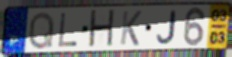6: (183, 6, 207, 48)
H: (87, 8, 117, 50)
J: (155, 9, 177, 45)
K: (119, 9, 143, 47)
L: (57, 12, 79, 49)
Q: (27, 10, 56, 51)
